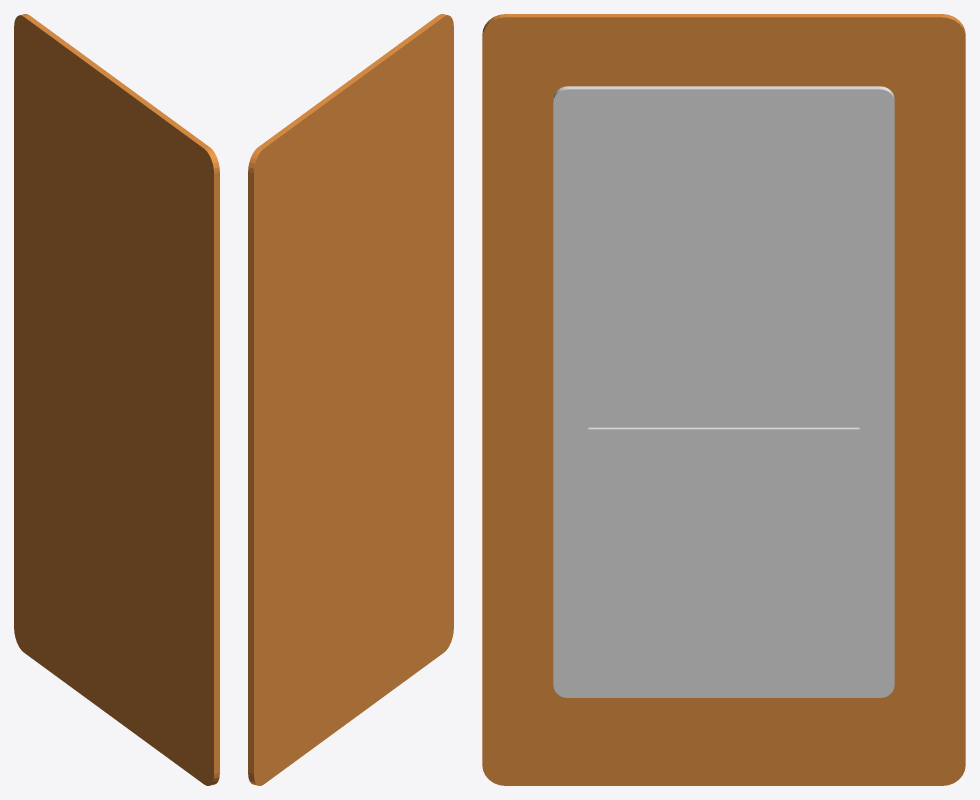
Rendered from level3.glb.
The picture shows the model from 3 angles, left to right: view 1: azimuth 30°, elevation 25°; view 2: azimuth 150°, elevation 25°; view 3: azimuth 270°, elevation 25°; orthographic projection. The views are drawn at different scales.
Parts seen in each view (by area): view 1: Cube; view 2: Cube; view 3: Cube.
Boxes of the visible parts, bbox=[...] form: Cube: bbox=[14, 14, 219, 785]; Cube: bbox=[248, 14, 453, 785]; Cube: bbox=[482, 14, 965, 785].
Size of the model in its own units: 0.0977 by 5.32 by 3.04.
